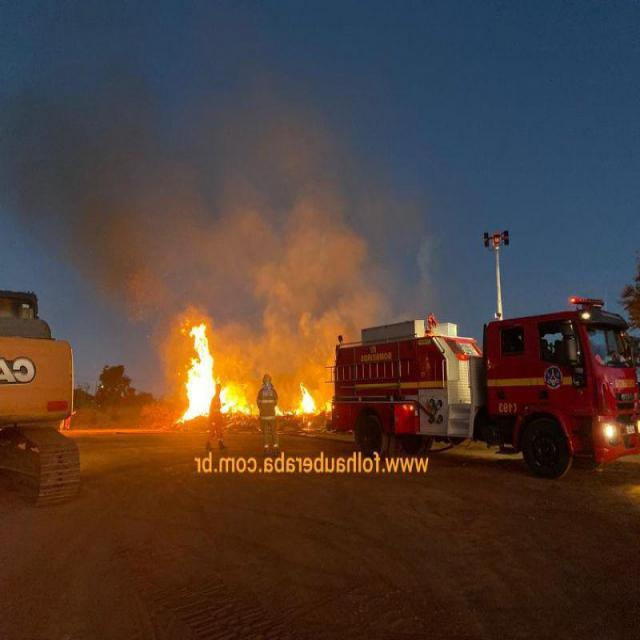fire: (140, 312, 325, 433)
